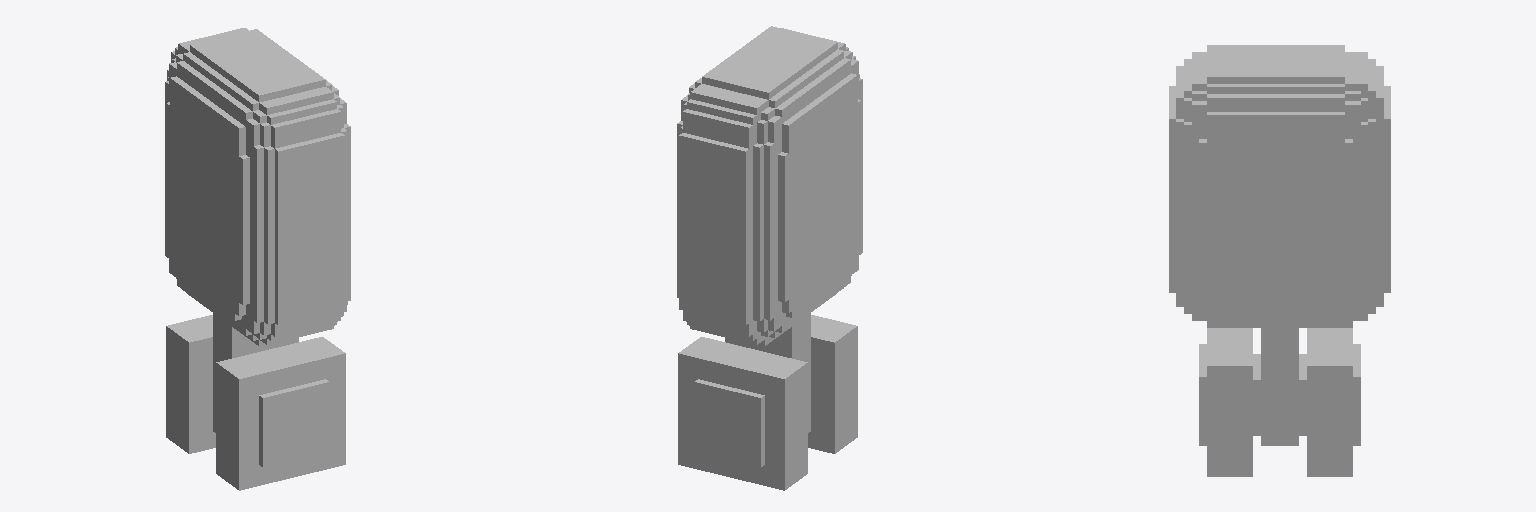
File: Kids Boss Body.obj
The picture shows the model from 3 angles: view 1: azimuth 30°, elevation 25°; view 2: azimuth 150°, elevation 25°; view 3: azimuth 270°, elevation 25°; orthographic projection.
Visible parts, largest first — view 1: object 1; view 2: object 1; view 3: object 1.
Part boxes in pixels (bbox=[...]): object 1: bbox=[165, 28, 350, 490]; object 1: bbox=[677, 26, 862, 490]; object 1: bbox=[1169, 45, 1390, 476].
Size of the model in its own units: 1.6 by 5.6 by 2.9.